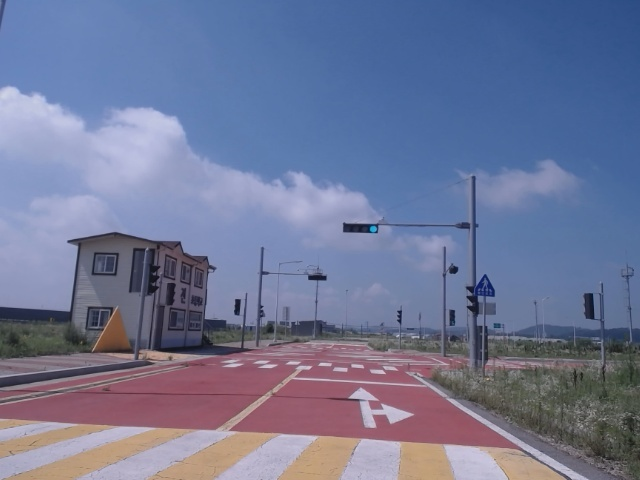straight_green_4: (342, 224, 378, 233)
